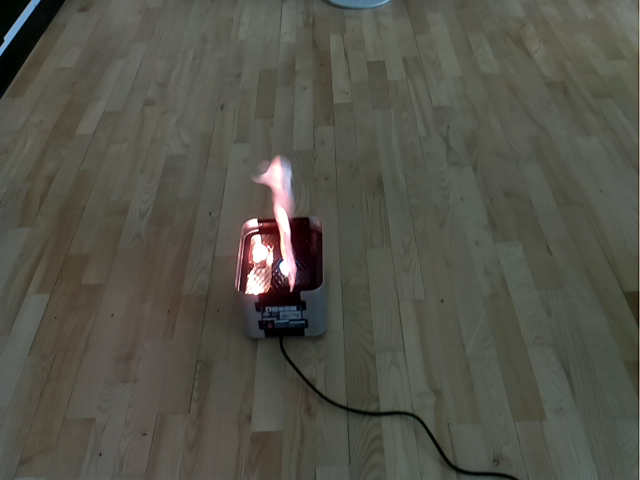fire: (258, 154, 297, 292)
